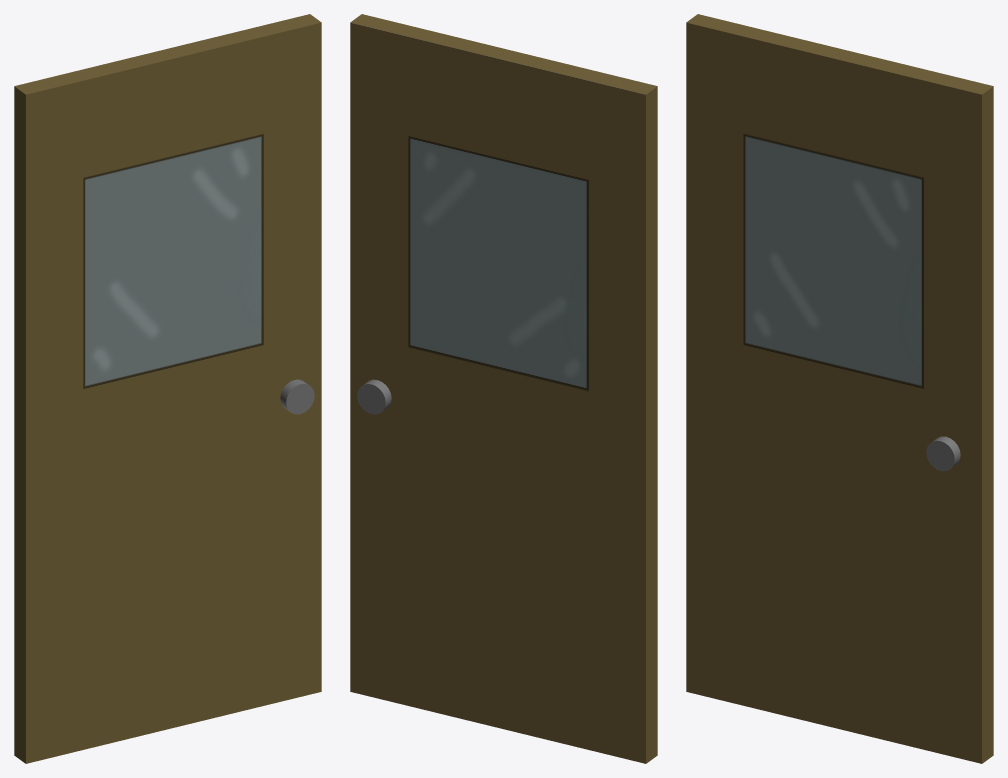
The model's file is HallwayDoors.fbx.
3 renders of one model, left to right at view 1: azimuth 30°, elevation 25°; view 2: azimuth 150°, elevation 25°; view 3: azimuth 330°, elevation 25°, orthographic.
Parts seen in each view (by area): view 1: pCylinder4; view 2: pCylinder4; view 3: pCylinder4.
Boxes of the visible parts, <box> form: pCylinder4: <box>14,14,321,763</box>; pCylinder4: <box>350,14,657,763</box>; pCylinder4: <box>686,14,993,763</box>.
Bounding box in the file's own units: 4 × 8.64 × 0.7474.
Materials: 2 (1 with a texture image).
